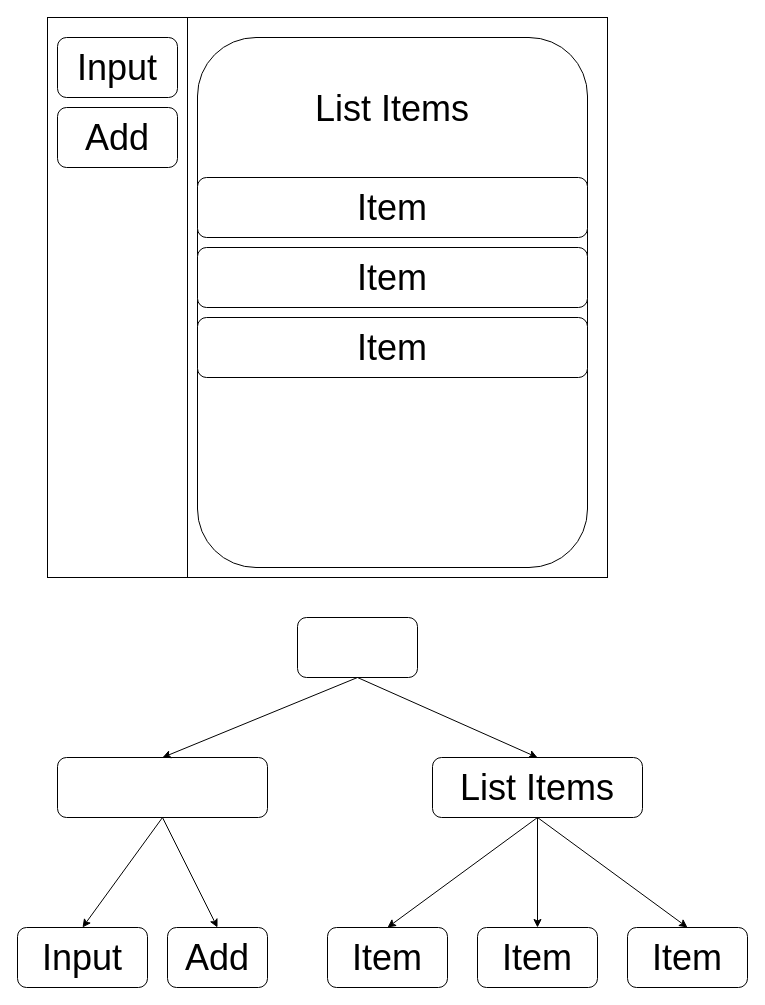
Some shapes in this 765 by 1005 pixel diagram are drawn without their labels. The shapes that lost their labels are listed below. From the top down, each one's centre as x and y in pixels, then its label:
[357,647]: App
[162,787]: Side Bar
